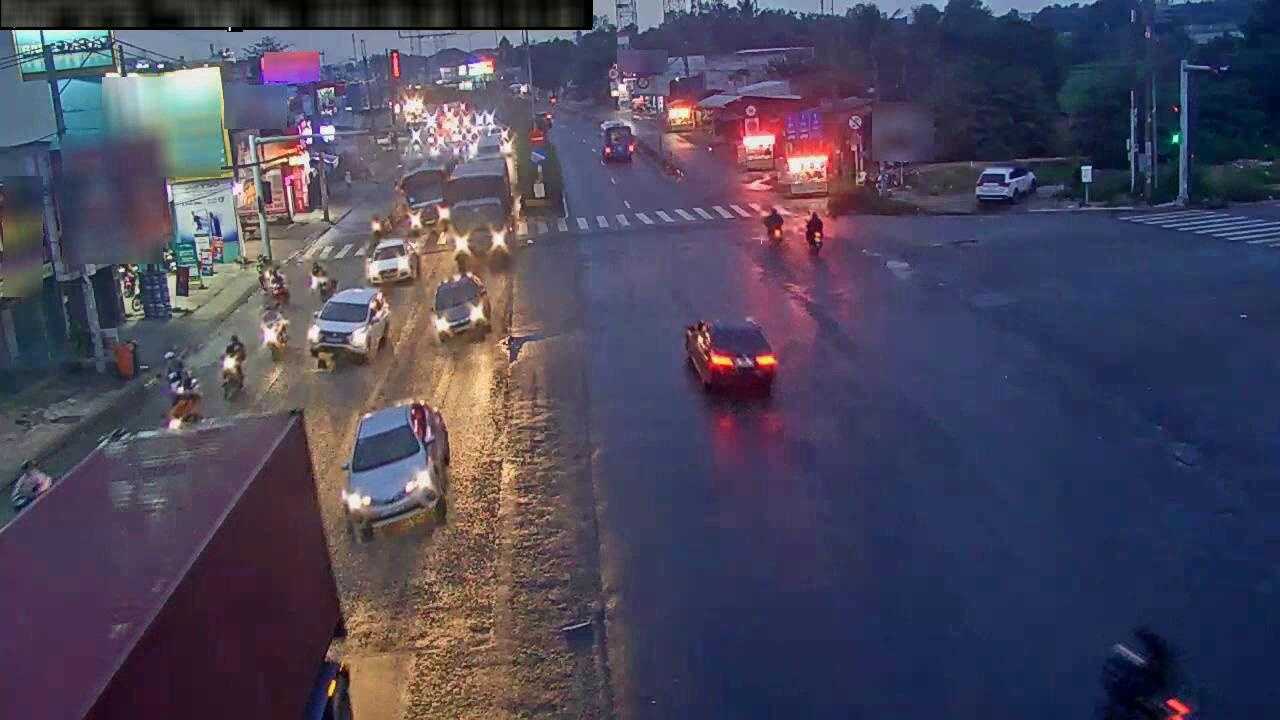Car: (340, 401, 450, 538), (684, 320, 778, 394), (308, 288, 389, 367), (433, 273, 492, 343), (366, 238, 419, 285), (975, 165, 1036, 203), (600, 121, 635, 163)
Motorcycle: (165, 351, 203, 429), (10, 468, 53, 512), (806, 227, 823, 248)
Motorcyclist: (1101, 627, 1195, 719), (260, 302, 289, 361), (220, 334, 245, 398), (264, 265, 289, 307), (762, 206, 784, 245), (310, 261, 331, 300), (805, 212, 824, 254), (369, 212, 387, 243)
Traffic light: (390, 51, 401, 79)
Truck: (445, 156, 518, 262), (399, 164, 448, 229)
